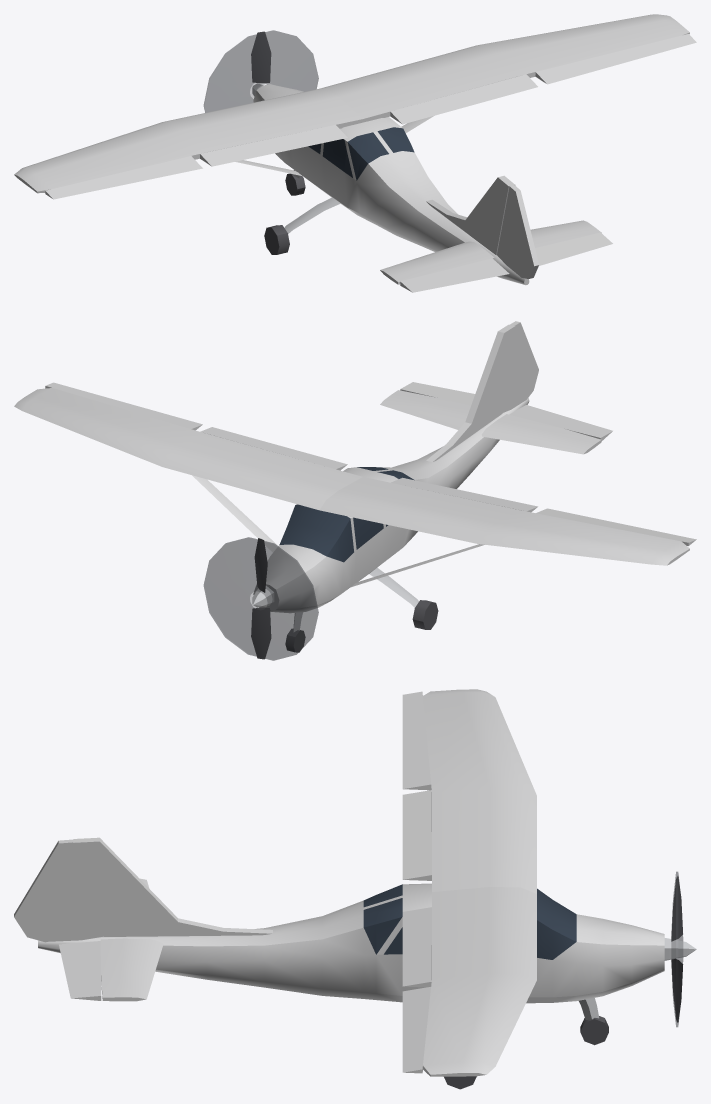
File: Cessna_172_LOD0.glb
3 renders of one model, top to bottom at view 1: azimuth 30°, elevation 25°; view 2: azimuth 150°, elevation 25°; view 3: azimuth 270°, elevation 25°, orthographic. The views are drawn at different scales.
Visible parts, largest first — view 1: Fuselage, Wing_Right, Wing_Left, Propeller_Disc, Elevator, Rudder, VerticalTail, Flap_Right, Flap_Left, Aileron_Right, HorizontalTail_Left, Aileron_Left (+4 smaller); view 2: Wing_Right, Fuselage, Wing_Left, Propeller_Disc, VerticalTail, HorizontalTail_Left, Elevator, HorizontalTail_Right, Rudder, Propeller, Flap_Right, Aileron_Right (+4 smaller); view 3: Fuselage, Wing_Left, Wing_Right, VerticalTail, Rudder, HorizontalTail_Right, Flap_Left, Aileron_Left, Flap_Right, Elevator, Aileron_Right, Propeller_Disc (+2 smaller).
Part boxes in pixels (x1,y1,x2,y2): Fuselage: [253, 84, 529, 285]; Wing_Right: [320, 14, 689, 122]; Wing_Left: [14, 88, 362, 193]; Propeller_Disc: [203, 30, 318, 112]; Elevator: [400, 232, 612, 292]; Rudder: [497, 185, 538, 278]; VerticalTail: [426, 175, 515, 255]; Flap_Right: [390, 74, 537, 124]; Flap_Left: [200, 125, 347, 166]; Aileron_Right: [535, 34, 696, 84]; HorizontalTail_Left: [380, 241, 494, 284]; Aileron_Left: [45, 156, 202, 199]; Wing_Right: [14, 388, 362, 510]; Fuselage: [253, 397, 529, 613]; Wing_Left: [320, 477, 689, 565]; Propeller_Disc: [203, 537, 318, 660]; VerticalTail: [426, 324, 515, 462]; HorizontalTail_Left: [481, 414, 601, 454]; Elevator: [400, 382, 612, 440]; HorizontalTail_Right: [380, 390, 470, 429]; Rudder: [502, 321, 538, 412]; Propeller: [251, 538, 271, 659]; Flap_Right: [200, 427, 347, 470]; Aileron_Right: [45, 382, 202, 430]; Fuselage: [38, 883, 664, 1003]; Wing_Left: [423, 689, 536, 893]; Wing_Right: [423, 887, 536, 1076]; VerticalTail: [73, 837, 272, 936]; Rudder: [14, 839, 103, 942]; HorizontalTail_Right: [100, 938, 163, 1001]; Flap_Left: [402, 790, 431, 880]; Aileron_Left: [402, 691, 431, 790]; Flap_Right: [402, 907, 431, 987]; Elevator: [59, 941, 101, 1000]; Aileron_Right: [402, 987, 430, 1073]; Propeller_Disc: [671, 871, 683, 1027].
Bounding box in the file's own units: 11 × 2.72 × 8.28.
